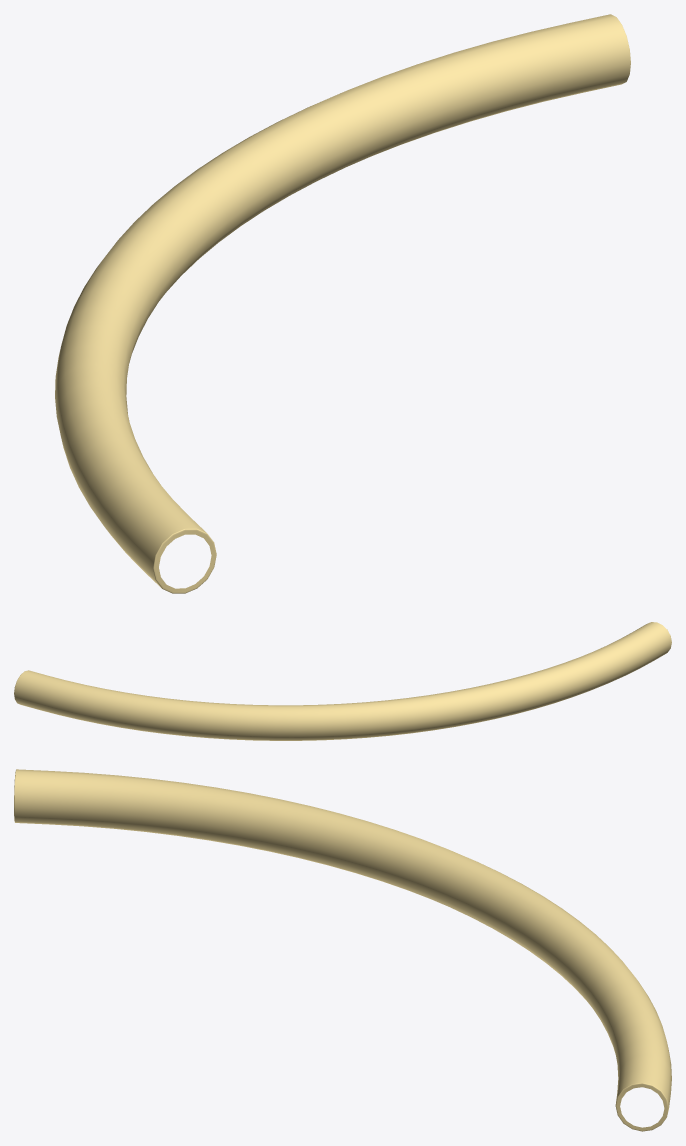
Rendered from BlissBar_Textured.glb.
The picture shows the model from 3 angles, top to bottom: view 1: azimuth 30°, elevation 25°; view 2: azimuth 150°, elevation 25°; view 3: azimuth 270°, elevation 25°; orthographic projection. The views are drawn at different scales.
Parts seen in each view (by area): view 1: Bliss_Bar_Textured; view 2: Bliss_Bar_Textured; view 3: Bliss_Bar_Textured.
Boxes of the visible parts, bbox=[...] form: Bliss_Bar_Textured: bbox=[55, 14, 630, 593]; Bliss_Bar_Textured: bbox=[14, 622, 671, 740]; Bliss_Bar_Textured: bbox=[14, 769, 671, 1131].
Bounding box in the file's own units: 0.0396 × 0.00278 × 0.034.
